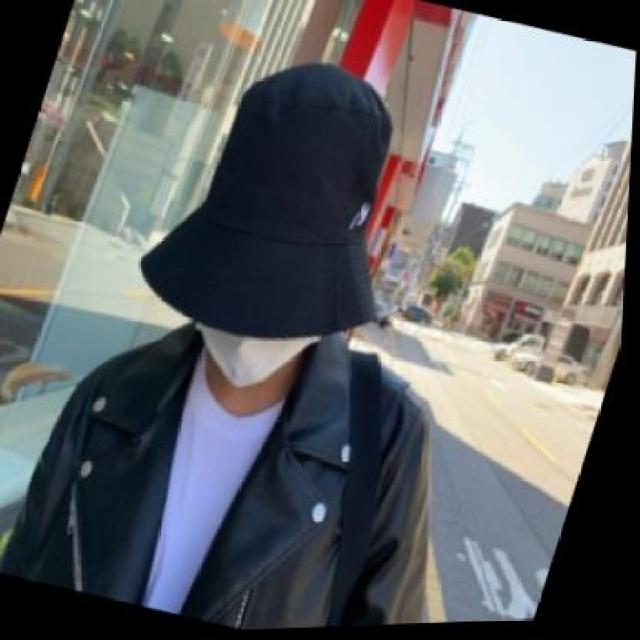hat: (124, 36, 450, 378)
